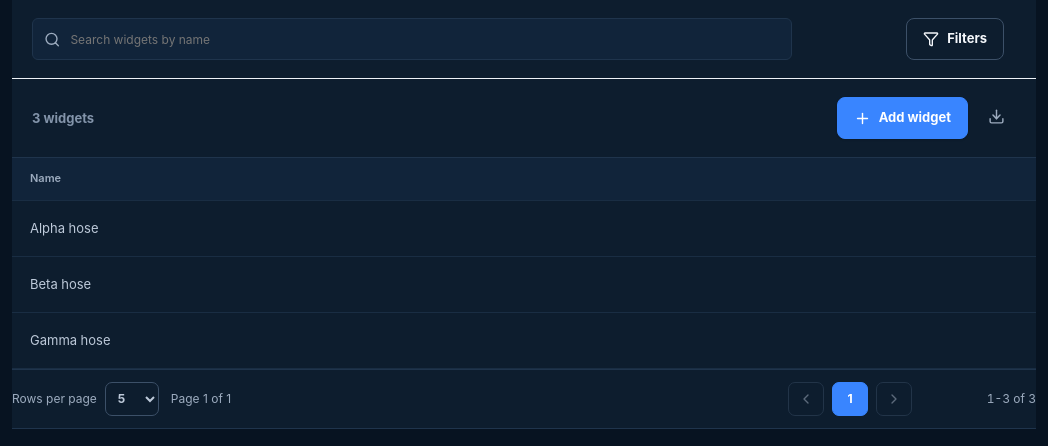
search › says what it searches, clears in one click and gives focus back to the box
In the field labelled "Search widgets": (424, 39) left=68, top=30, right=780, bottom=48, type "beta"
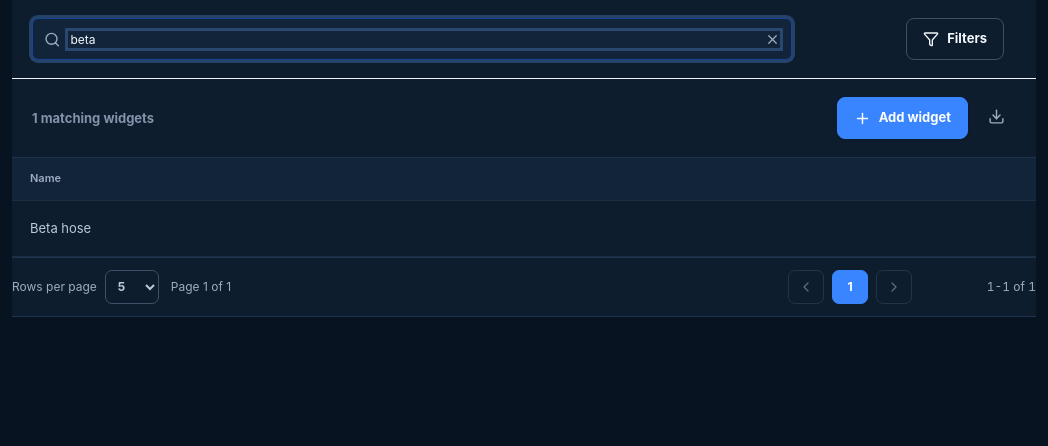
Expected: the number of rows is 2, left=12, top=158, right=1036, bottom=200; left=12, top=200, right=1036, bottom=256
Click the button named "Clear search": (771, 39) left=759, top=27, right=783, bottom=51
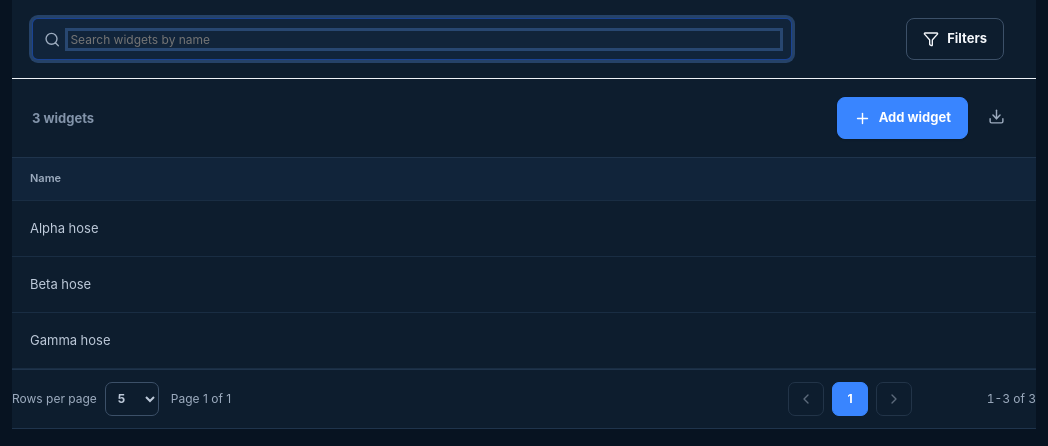
Expected: the field labelled "Search widgets" is empty, left=68, top=30, right=780, bottom=48
Expected: the number of rows is 4, left=12, top=158, right=1036, bottom=200; left=12, top=200, right=1036, bottom=256; left=12, top=256, right=1036, bottom=312; left=12, top=312, right=1036, bottom=368
